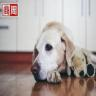dog: (30, 21, 96, 84)
